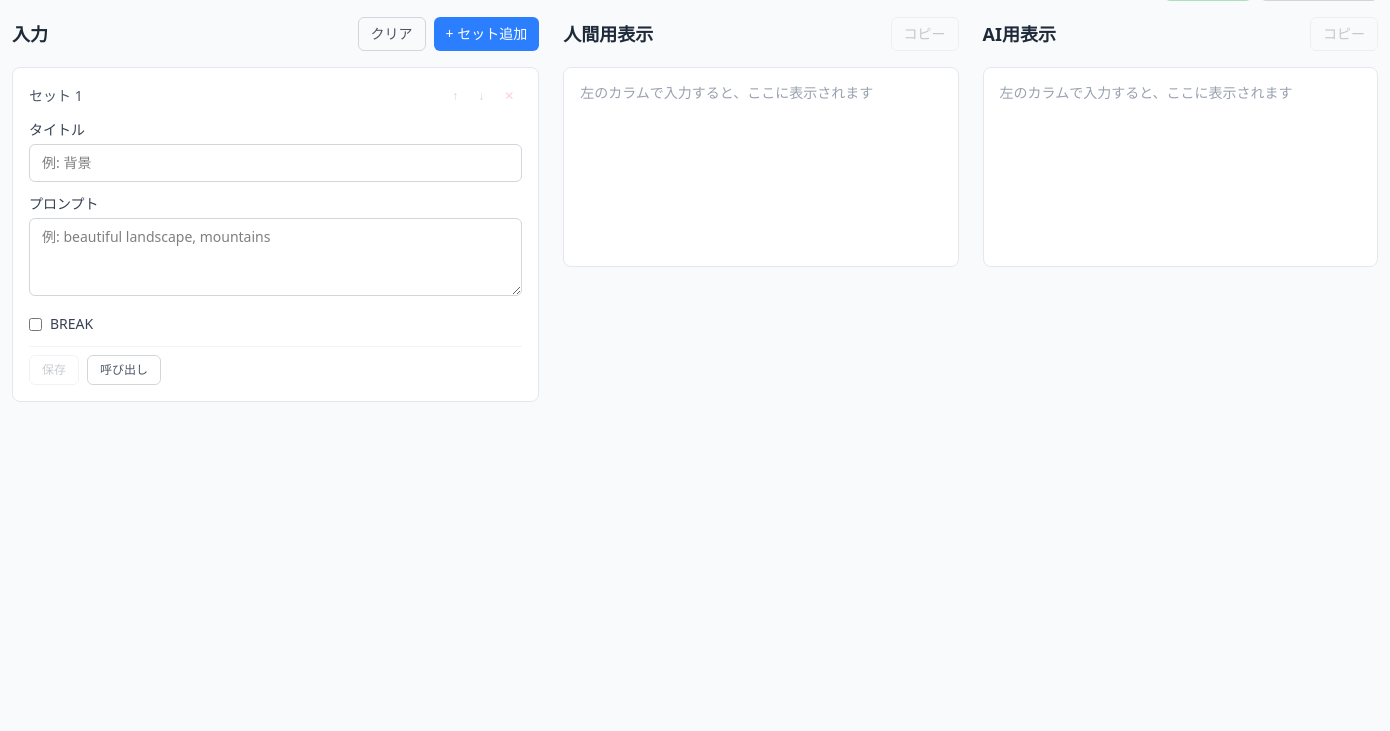
Test: PromptGenerator › セット追加ボタンでセットが増える
This screenshot has width=1390, height=731.
Click the button "+ セット追加" at (486, 34), box [434, 17, 539, 51]
(page scrolled)
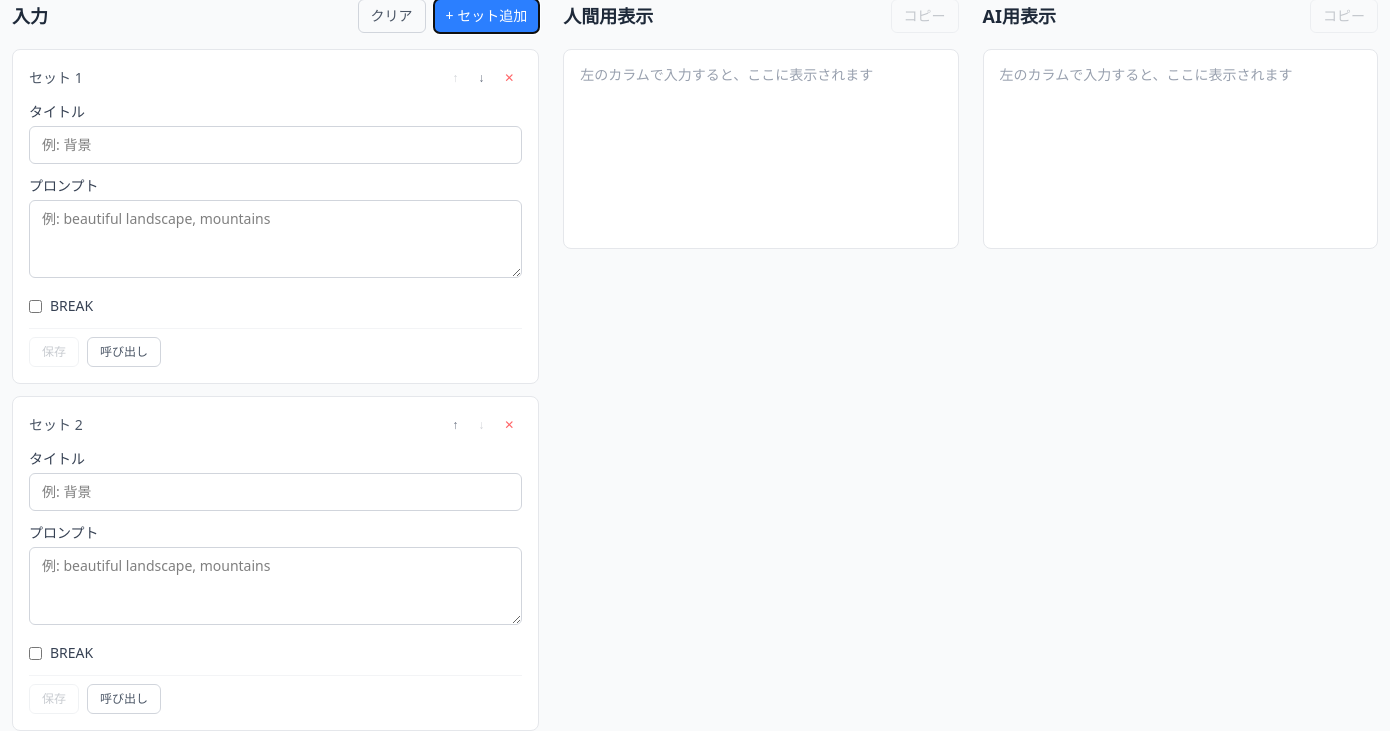
Expected: the element with test id "input-set-1" is shown, [12, 396, 539, 730]
